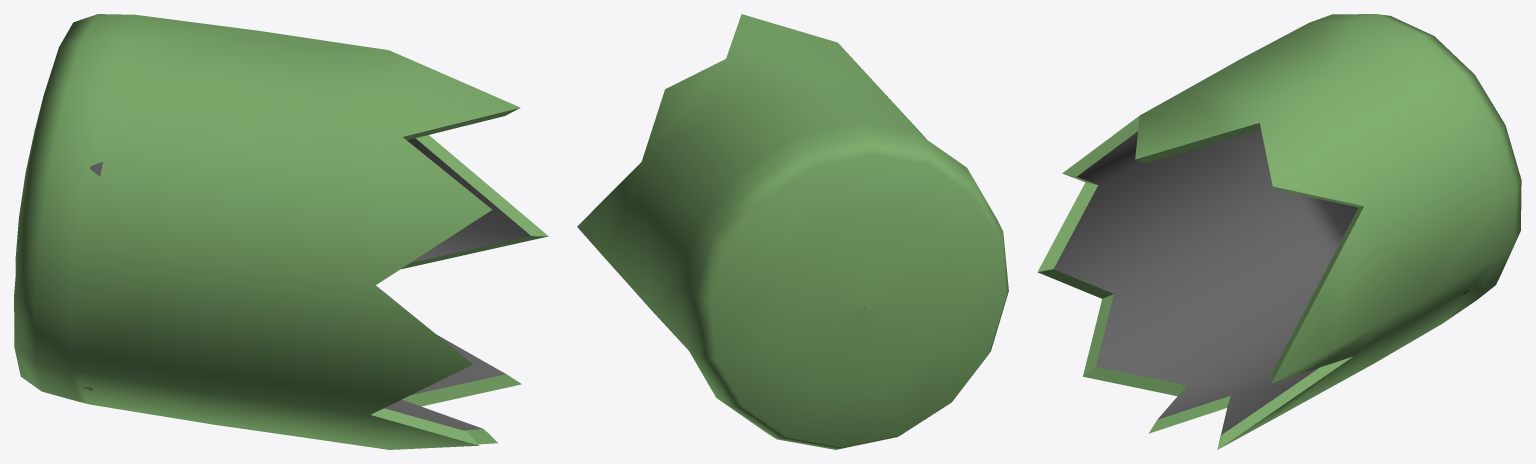
The model's file is M_3_brokenbottle3.fbx.
3 renders of one model, left to right at view 1: azimuth 30°, elevation 25°; view 2: azimuth 150°, elevation 25°; view 3: azimuth 270°, elevation 25°, orthographic. The views are drawn at different scales.
Parts seen in each view (by area): view 1: beer1:revolvedSurface1; view 2: beer1:revolvedSurface1; view 3: beer1:revolvedSurface1.
Part boxes in pixels (x1,y1,x2,y2): beer1:revolvedSurface1: (14, 14, 548, 449); beer1:revolvedSurface1: (577, 14, 1008, 449); beer1:revolvedSurface1: (1037, 14, 1521, 449).
Bounding box in the file's own units: 2.07 × 1.42 × 2.02.
